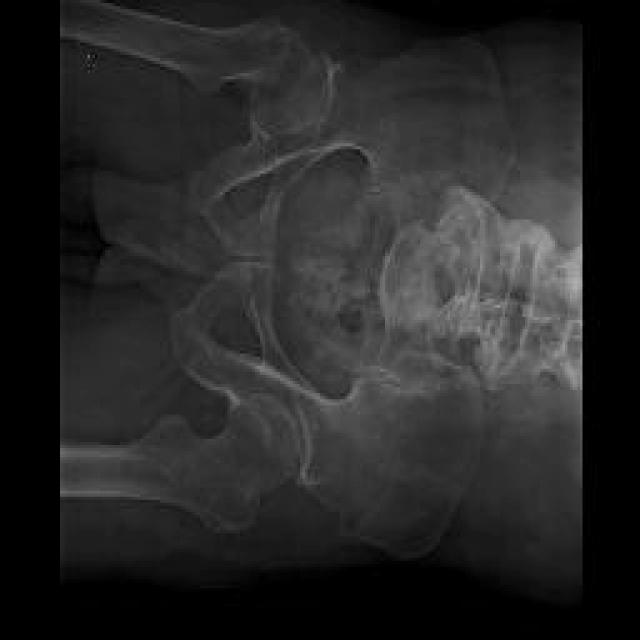normal: (59, 260, 481, 558), (60, 0, 513, 259)
